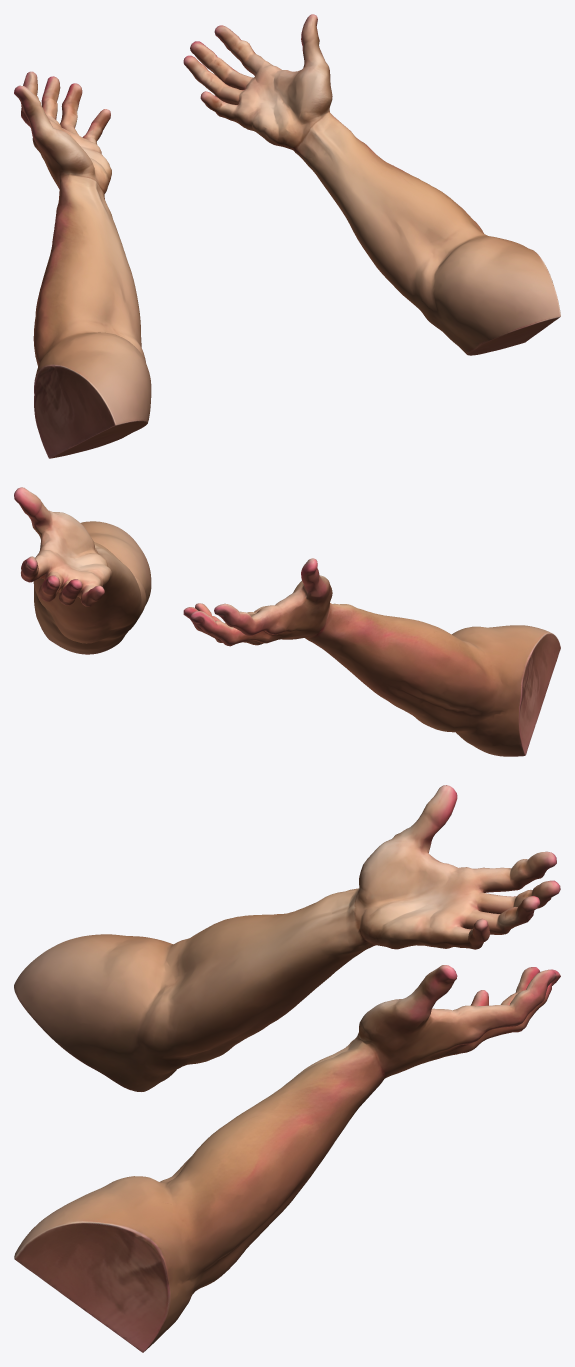
File: raise.glb
The picture shows the model from 3 angles, top to bottom: view 1: azimuth 30°, elevation 25°; view 2: azimuth 150°, elevation 25°; view 3: azimuth 270°, elevation 25°; orthographic projection. The views are drawn at different scales.
Visible parts, largest first — view 1: tripo_node_e81cb181-65da-41b1-93bb-28d166dddf1f; view 2: tripo_node_e81cb181-65da-41b1-93bb-28d166dddf1f; view 3: tripo_node_e81cb181-65da-41b1-93bb-28d166dddf1f.
Boxes of the visible parts, left/top/right/bottom form: tripo_node_e81cb181-65da-41b1-93bb-28d166dddf1f: left=14, top=14, right=560, bottom=458; tripo_node_e81cb181-65da-41b1-93bb-28d166dddf1f: left=14, top=487, right=560, bottom=756; tripo_node_e81cb181-65da-41b1-93bb-28d166dddf1f: left=14, top=785, right=560, bottom=1352.
Size of the model in its own units: 1 by 0.5219 by 0.7701.
1 material, 1 textured.
